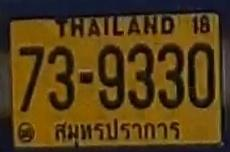0: (186, 42, 214, 107)
3: (127, 43, 154, 108), (47, 44, 73, 109), (157, 43, 183, 108)
7: (18, 45, 43, 111)
9: (97, 44, 123, 109)
SPK: (50, 116, 185, 145)
